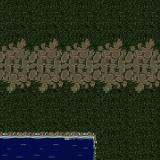Interaction: (0, 118, 103, 145), (87, 145, 105, 160)
Slow: (0, 139, 91, 160)
